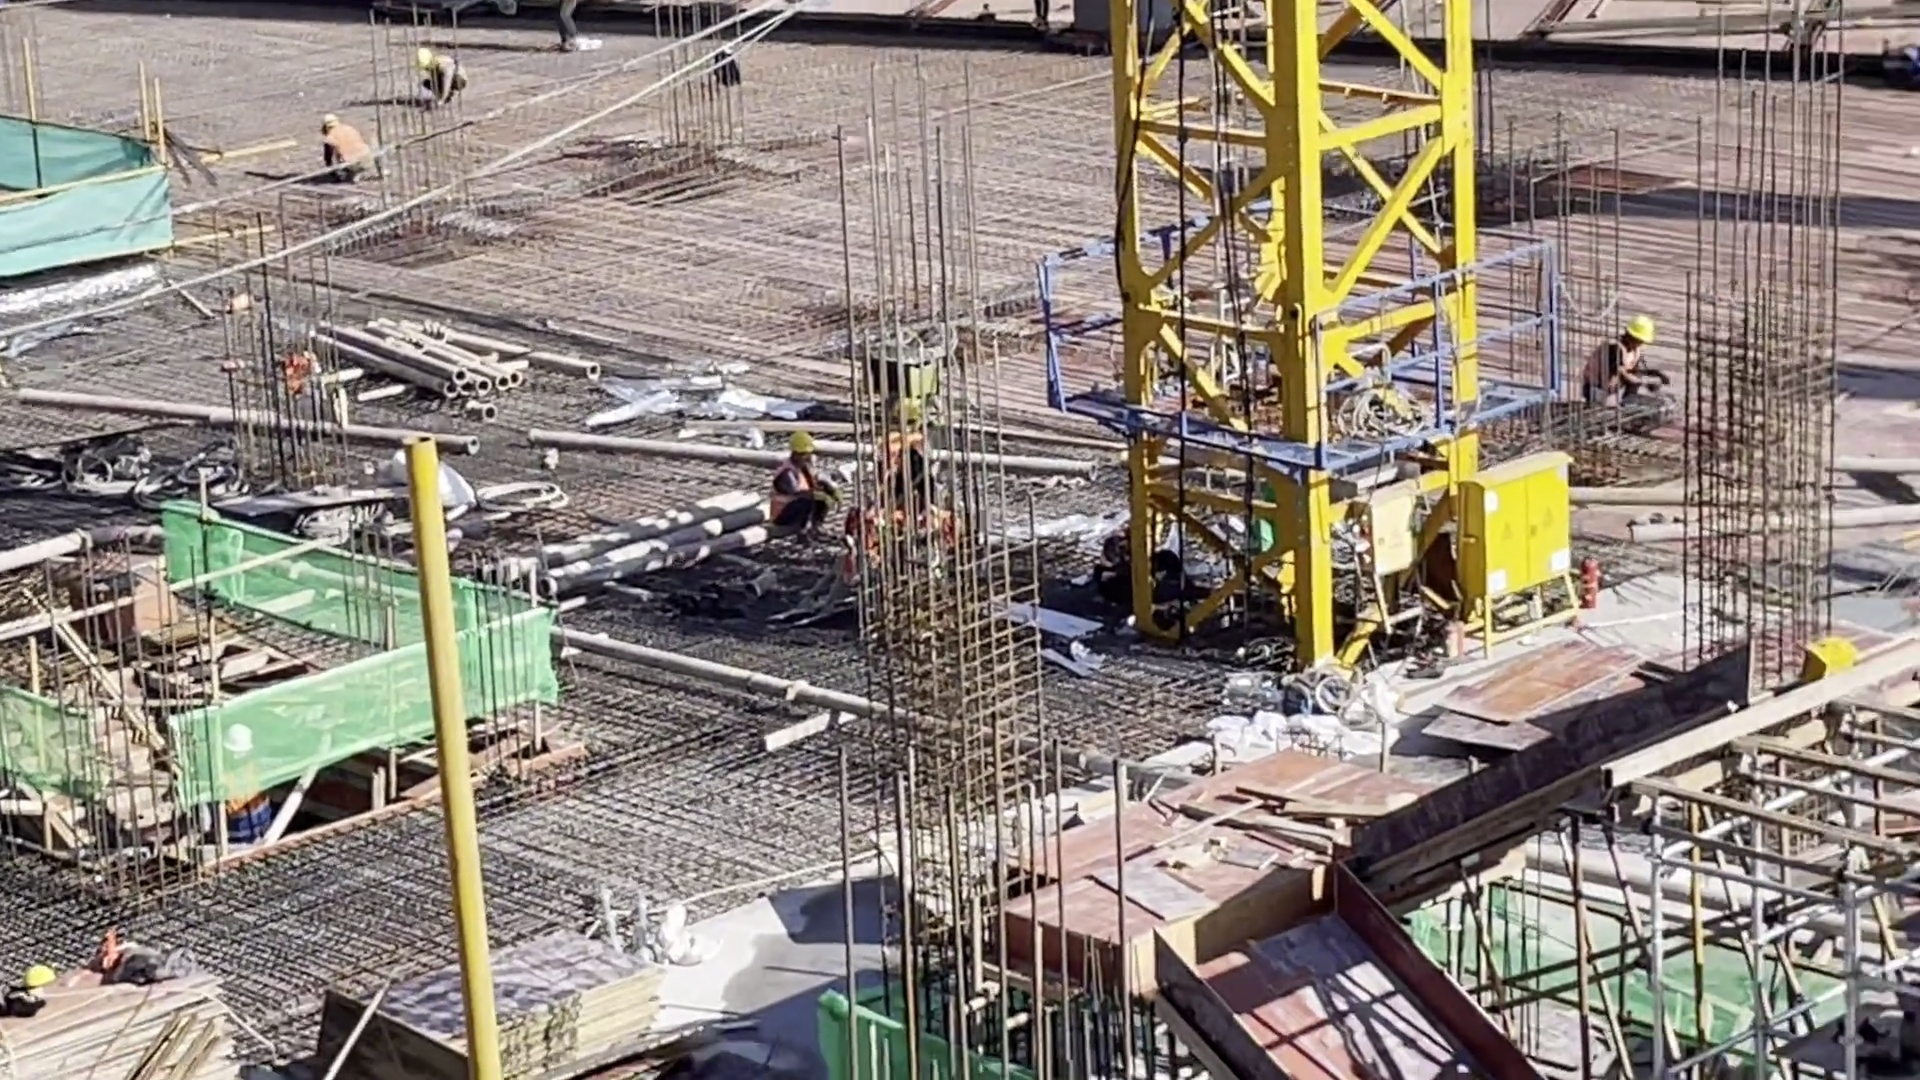helmet: (1623, 314, 1659, 355), (19, 964, 62, 988), (783, 428, 815, 456)
person: (767, 431, 839, 536), (1580, 315, 1649, 403), (415, 44, 470, 103), (321, 117, 369, 175)
vest: (767, 457, 820, 524), (1582, 341, 1637, 404)
